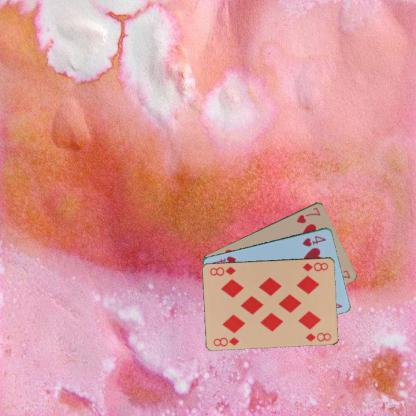4h: (300, 233, 327, 248)
7h: (294, 205, 321, 224)
8d: (300, 260, 329, 272), (211, 335, 240, 347)
